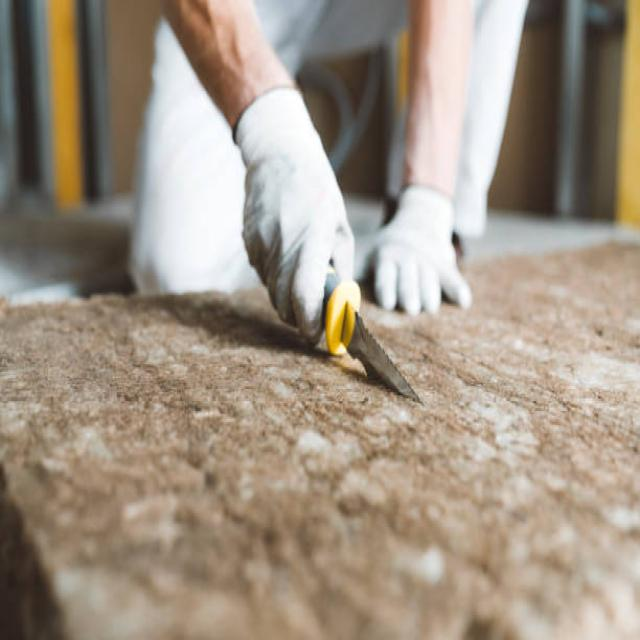gloves: (234, 88, 357, 337), (356, 187, 472, 317)
